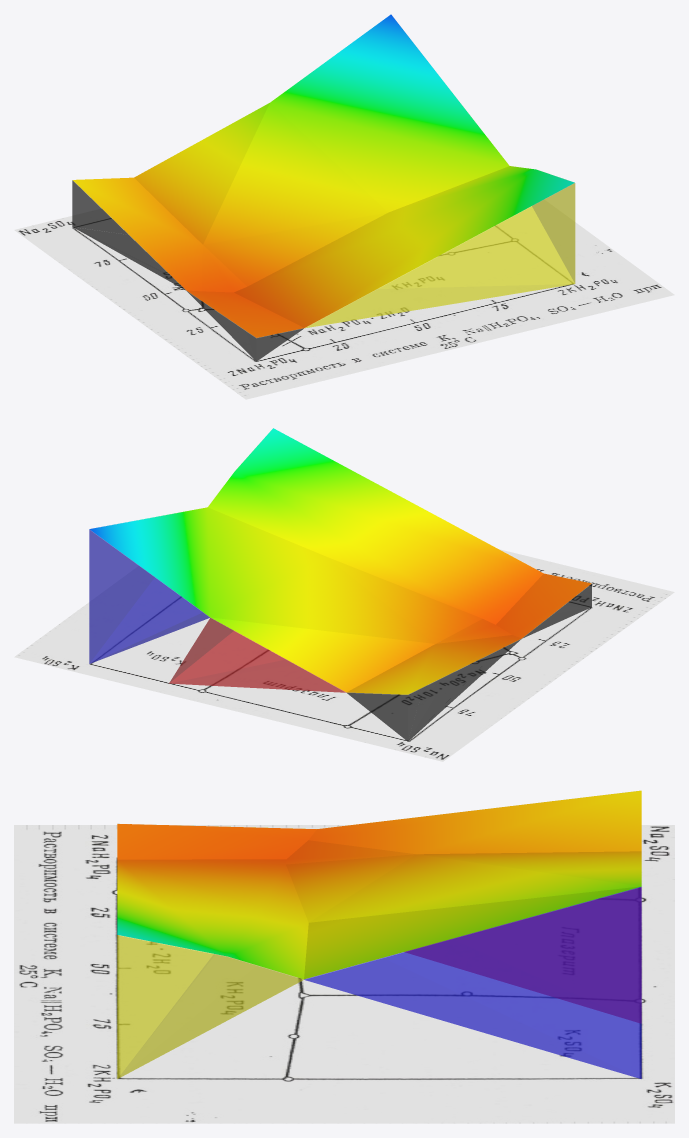
The model's file is MKP diagram.glb.
3 views of the same model, one above another, from view 1: azimuth 30°, elevation 25°; view 2: azimuth 150°, elevation 25°; view 3: azimuth 270°, elevation 25° (orthographic). The views are drawn at different scales.
Visible parts, largest first — view 1: Surface_colored, Picture_plain, MKP, Na2SO4_10H2O, NaHPO4, Na2SO4; view 2: Surface_colored, Picture_plain, SOP, Glazerite, Na2SO4_10H2O, Na2SO4, NaHPO4; view 3: Picture_plain, Surface_colored, SOP, Glazerite, MKP.
Part boxes in pixels (x1,y1,x2,y2): Surface_colored: (73, 14, 574, 337); Picture_plain: (14, 199, 674, 399); MKP: (305, 183, 575, 328); Na2SO4_10H2O: (72, 180, 185, 290); NaHPO4: (187, 291, 303, 361); Na2SO4: (74, 227, 170, 275); Surface_colored: (89, 428, 591, 694); Picture_plain: (14, 549, 674, 761); SOP: (89, 529, 209, 663); Glazerite: (169, 618, 345, 692); Na2SO4_10H2O: (347, 639, 521, 741); Na2SO4: (408, 651, 496, 740); NaHPO4: (522, 584, 591, 638); Picture_plain: (14, 825, 674, 1123); Surface_colored: (117, 790, 641, 979); SOP: (304, 887, 641, 1078); Glazerite: (405, 887, 641, 1022); MKP: (117, 935, 303, 1078).
Bounding box in the file's own units: 1.35 × 0.405 × 1.26.
Materials: 7 (2 with a texture image).
